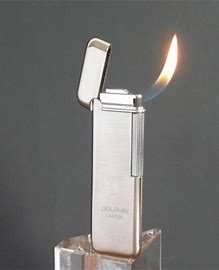Fire: (140, 23, 191, 109)
